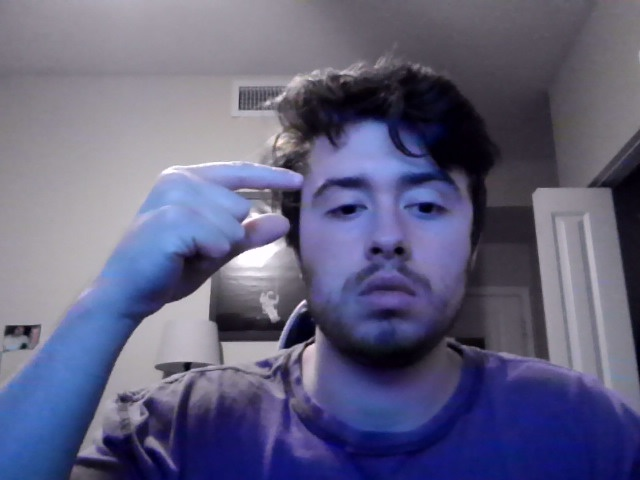g: (91, 159, 305, 323)
